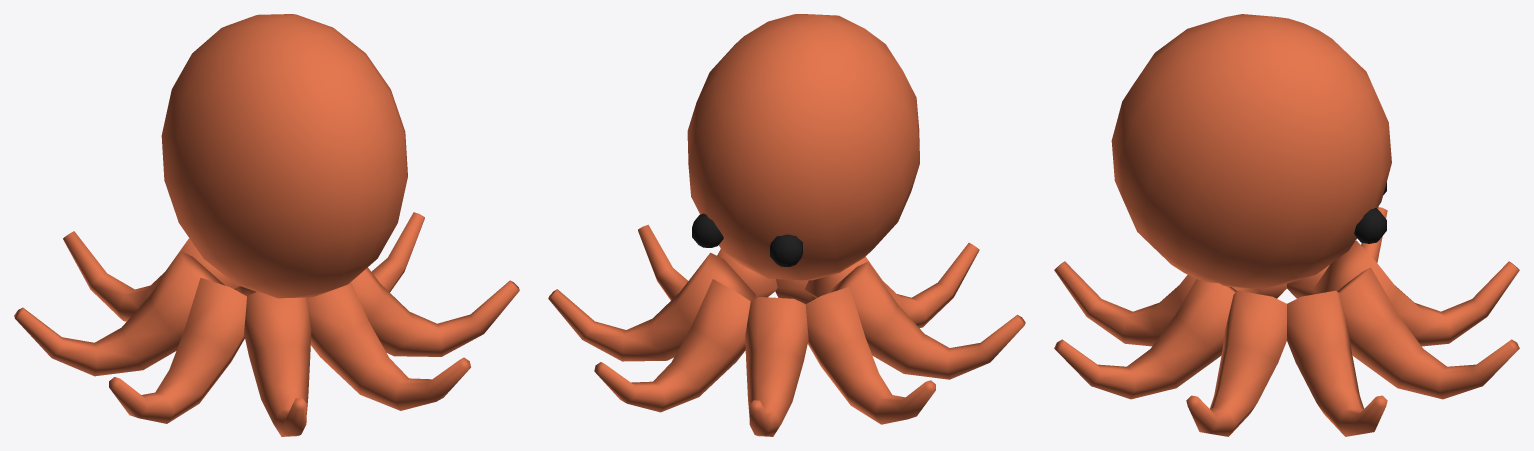
The model's file is sea-octopus.glb.
3 views of the same model, side by side, from view 1: azimuth 30°, elevation 25°; view 2: azimuth 150°, elevation 25°; view 3: azimuth 270°, elevation 25° (orthographic). The views are drawn at different scales.
Parts seen in each view (by area): view 1: body; view 2: body; view 3: body.
Boxes of the visible parts, bbox=[...] form: body: bbox=[14, 14, 519, 436]; body: bbox=[548, 14, 1025, 436]; body: bbox=[1054, 14, 1519, 436].
Bounding box in the file's own units: 2.2 × 1.8 × 2.2.
